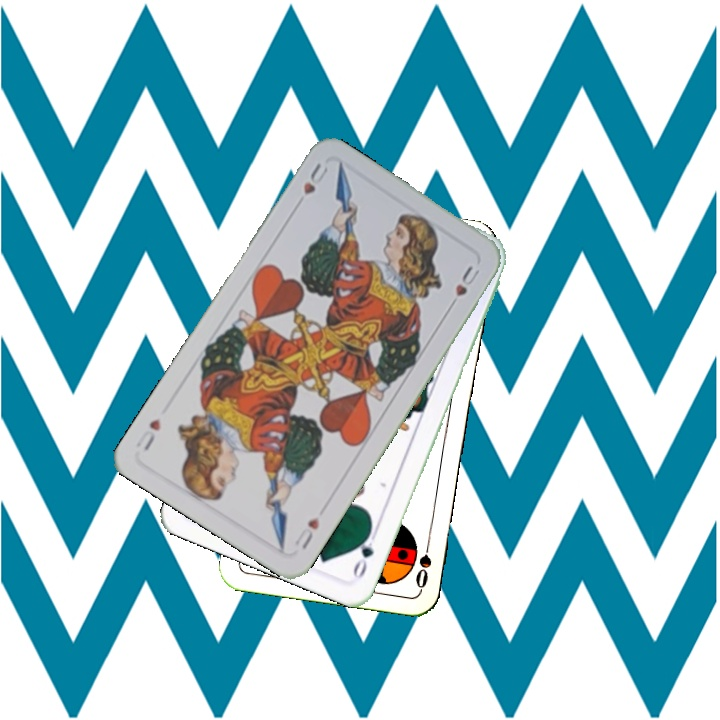GO: (348, 524, 381, 581)
HU: (290, 513, 322, 552), (299, 159, 331, 197)
SO: (411, 532, 435, 591)
